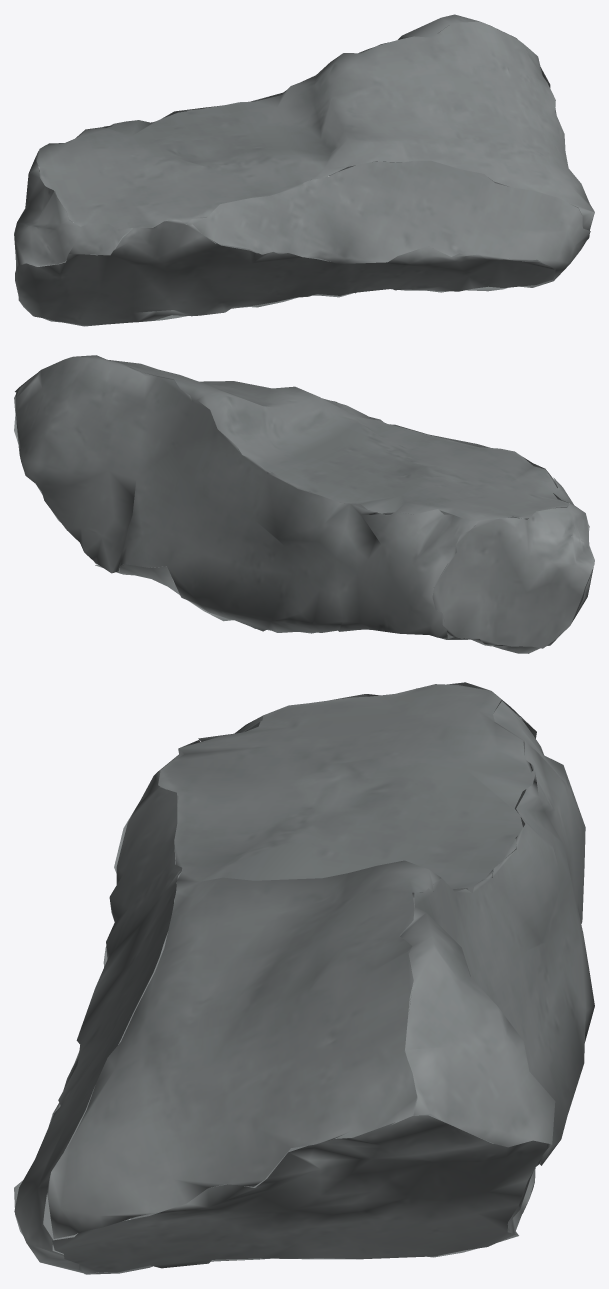
The model's file is moon-rocks-small.glb.
3 renders of one model, top to bottom at view 1: azimuth 30°, elevation 25°; view 2: azimuth 150°, elevation 25°; view 3: azimuth 270°, elevation 25°, orthographic. The views are drawn at different scales.
Visible parts, largest first — view 1: moon-rocks-small; view 2: moon-rocks-small; view 3: moon-rocks-small.
Part boxes in pixels (box(x1,y1,x2,y2)): moon-rocks-small: box(14, 14, 594, 326); moon-rocks-small: box(14, 355, 594, 653); moon-rocks-small: box(14, 682, 594, 1274).
Size of the model in its own units: 1.67 by 0.6 by 0.8772.
Materials: 1 (1 with a texture image).
